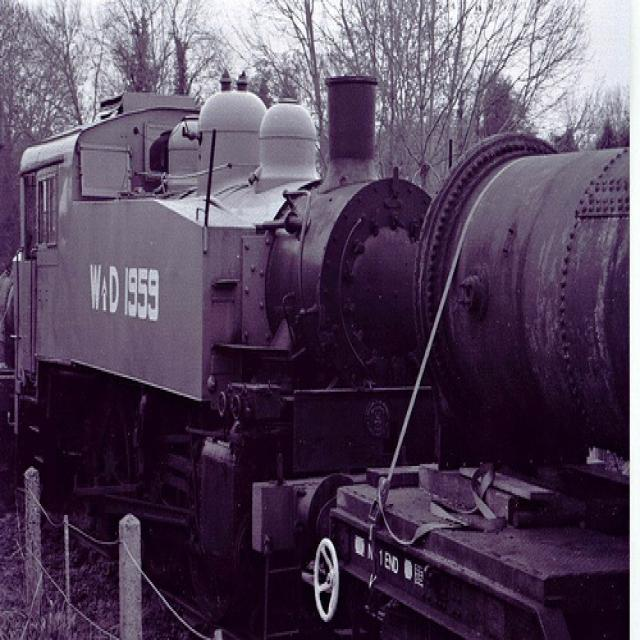train: (1, 69, 636, 627)
